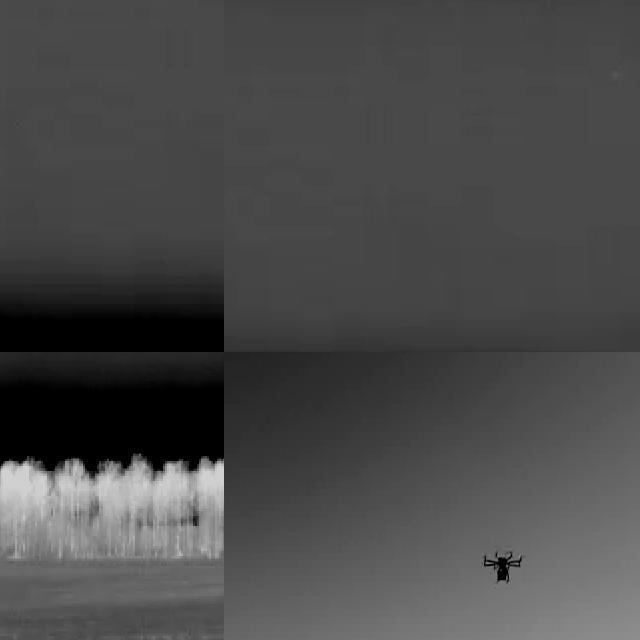0: (606, 64, 630, 88)
drone: (482, 545, 526, 590)
